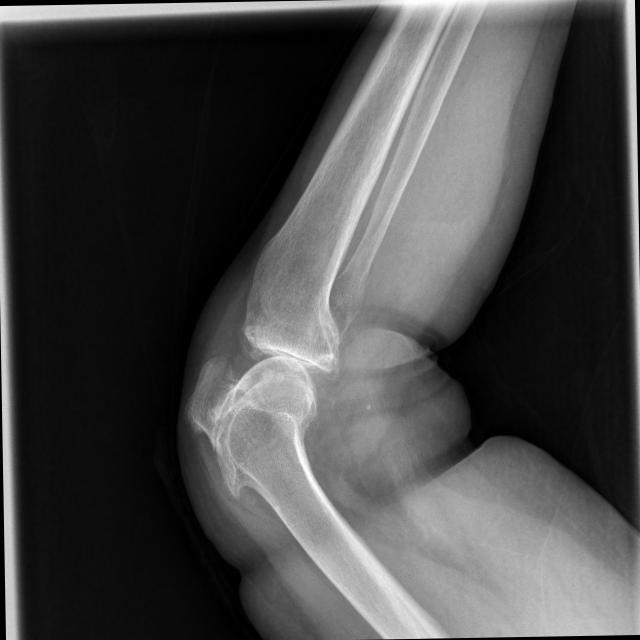Knee: (182, 282, 344, 480)
